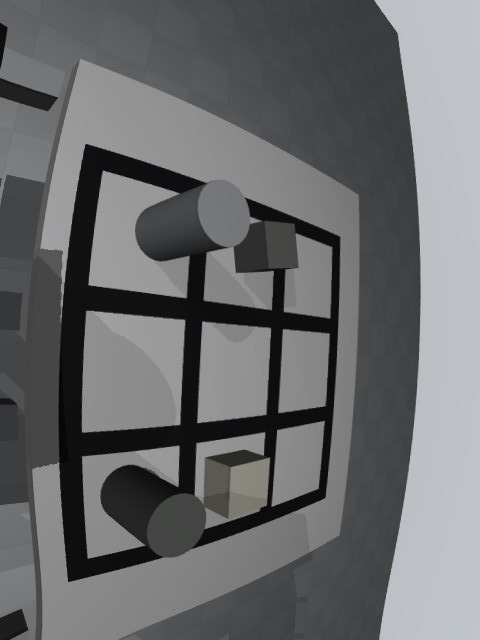can: (135, 179, 250, 262)
cube: (234, 221, 298, 273)
cylinder: (100, 465, 206, 558)
foam: (203, 450, 270, 519)
